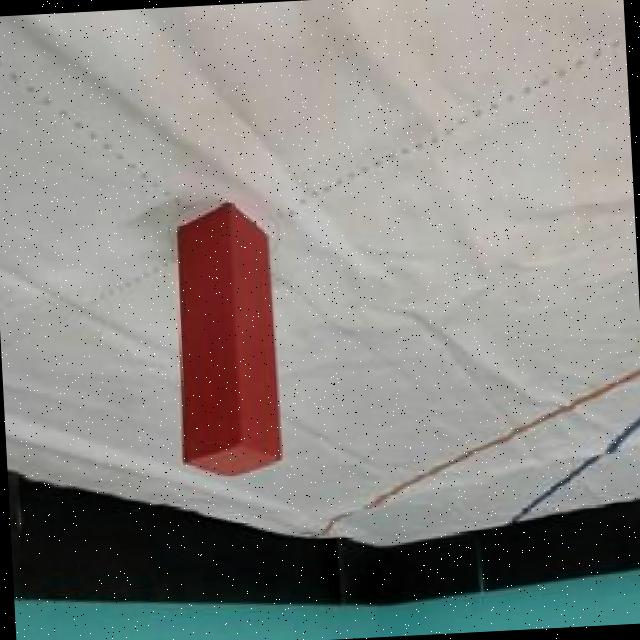redbox: (168, 200, 286, 481)
